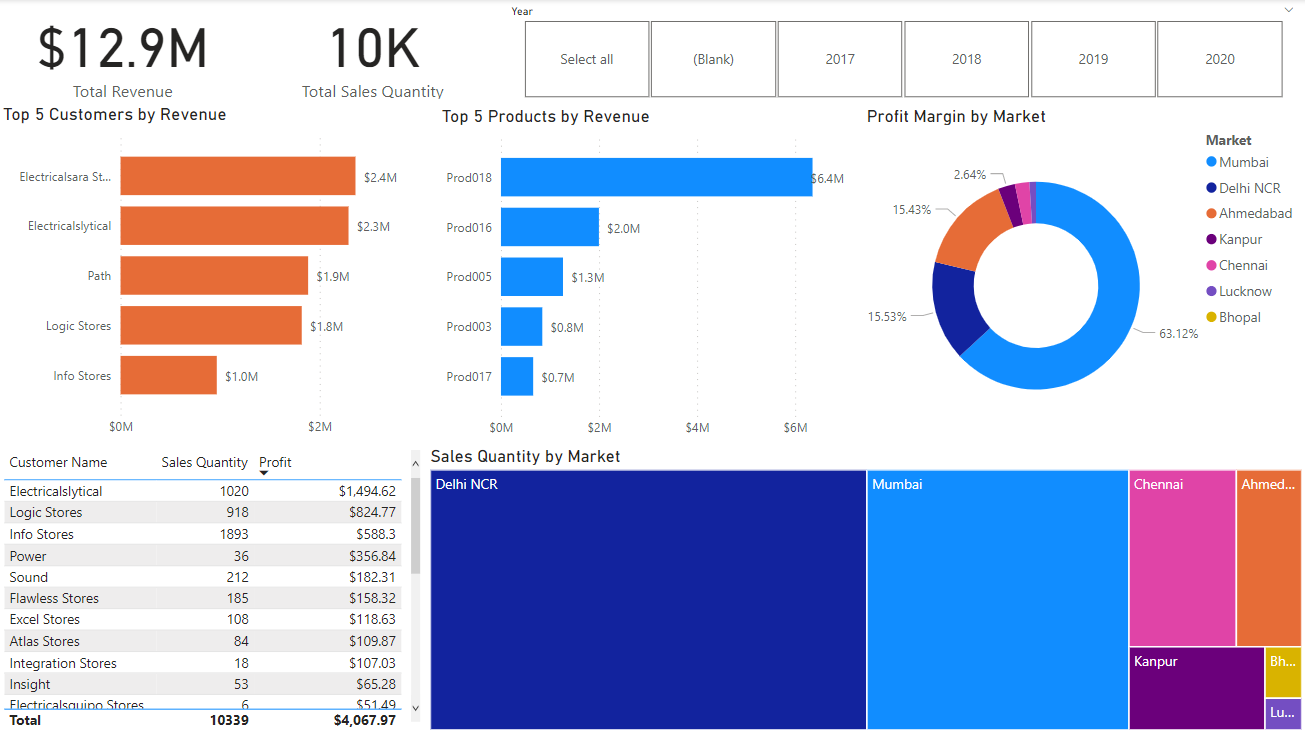

The page's visual inventory and layout, read from the dashboard file:
{"tool":"powerbi","page":{"name":"Page 2","canvas":[1280,720],"ordinal":1},"visuals":[{"type":"slicer","fields":{"Values":["date.year"]},"box":[489,0,790.9,102.7],"z":0},{"type":"card","fields":{"Values":["transactions.Total Revenue"]},"box":[0,0,244.5,102.7],"z":1000},{"type":"card","fields":{"Values":["Sum(transactions.sales_qty)"]},"box":[244.5,0,244.5,102.7],"z":2000},{"type":"barChart","title":"Top 5 Products by Revenue","fields":{"Category":["products.product_code"],"Y":["transactions.Total Revenue"]},"box":[429.1,103.9,415.6,333.7],"z":3000},{"type":"barChart","title":"Top 5 Customers by Revenue","fields":{"Category":["customers.custmer_name"],"Y":["transactions.Total Revenue"]},"box":[0,102.7,429.1,333.7],"z":4000},{"type":"donutChart","title":"Profit Margin by Market","fields":{"Category":["markets.markets_name"],"Y":["Sum(transactions.profit_margin)"]},"box":[844.7,103.9,435.2,333.7],"z":4001},{"type":"treemap","title":"Sales Quantity by Market","fields":{"Values":["Sum(transactions.sales_qty)"],"Group":["markets.markets_name"]},"box":[418.1,436.4,861.8,283.6],"z":4002},{"type":"tableEx","fields":{"Values":["customers.custmer_name","Sum(transactions.sales_qty)","Sum(transactions.profit)"]},"box":[0,436.4,418.1,283.6],"z":4003}]}

Visuals, with their boxes in screenshot pixels (x1, y1, x2, y2), scaled from the page's 1280x720 canvas onto the 1305x734 screenshot:
slicer - date.year: <bbox>499, 0, 1304, 105</bbox>
card - transactions.Total Revenue: <bbox>0, 0, 249, 105</bbox>
card - Sum(transactions.sales_qty): <bbox>249, 0, 499, 105</bbox>
"Top 5 Products by Revenue" barChart: <bbox>437, 106, 861, 446</bbox>
"Top 5 Customers by Revenue" barChart: <bbox>0, 105, 437, 445</bbox>
"Profit Margin by Market" donutChart: <bbox>861, 106, 1304, 446</bbox>
"Sales Quantity by Market" treemap: <bbox>426, 445, 1304, 733</bbox>
tableEx - customers.custmer_name x Sum(transactions.sales_qty): <bbox>0, 445, 426, 733</bbox>
